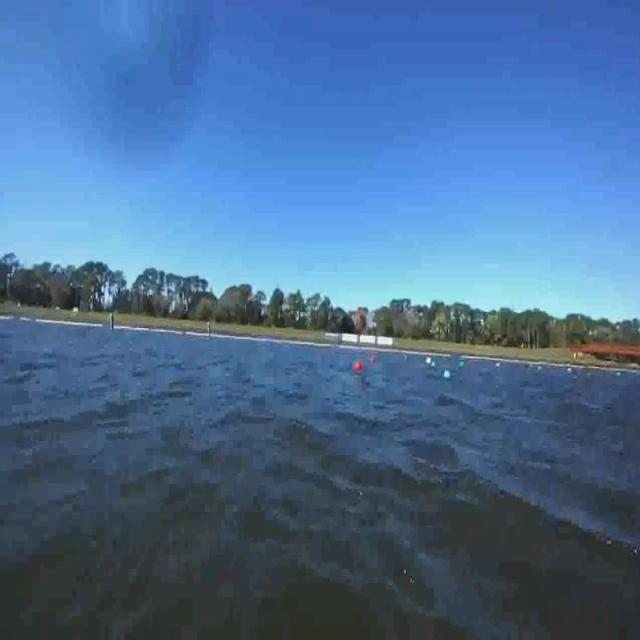red-buoy: (354, 361, 363, 371)
